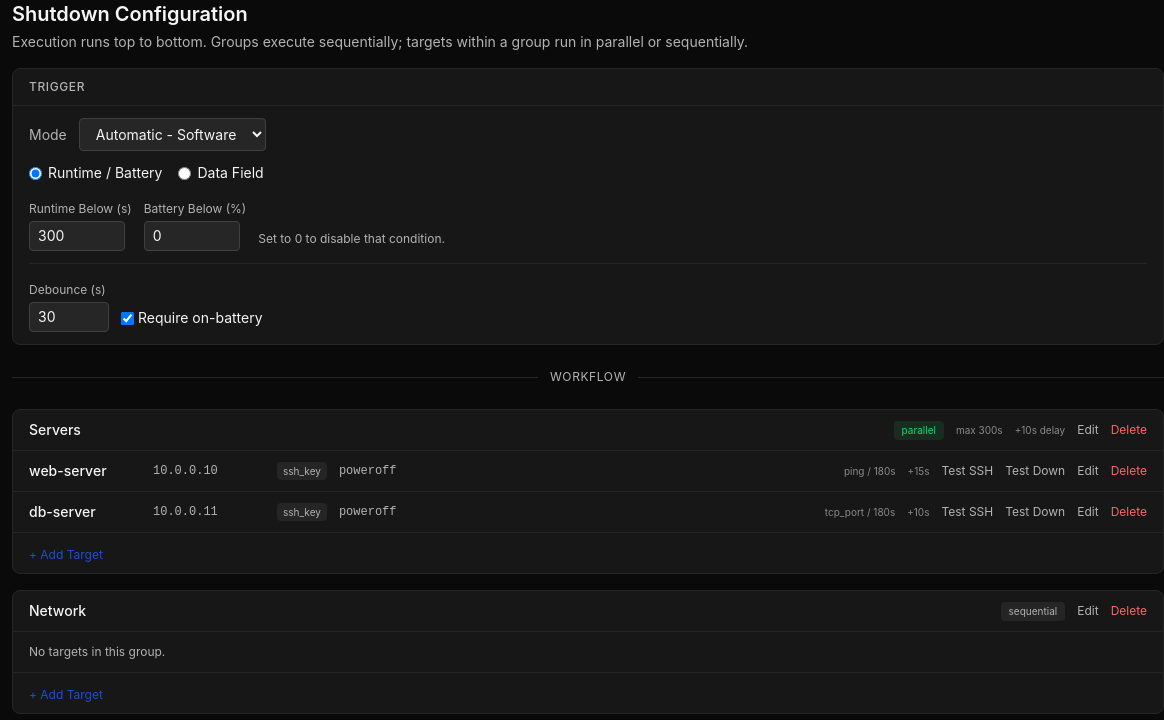
it: ShutdownConfig — Trigger › shows Save Settings button when settings are changed
Select "Manual" in the dropdown showing "Automatic - Software" at [172, 134], box [79,118,266,151]
(page scrolled)
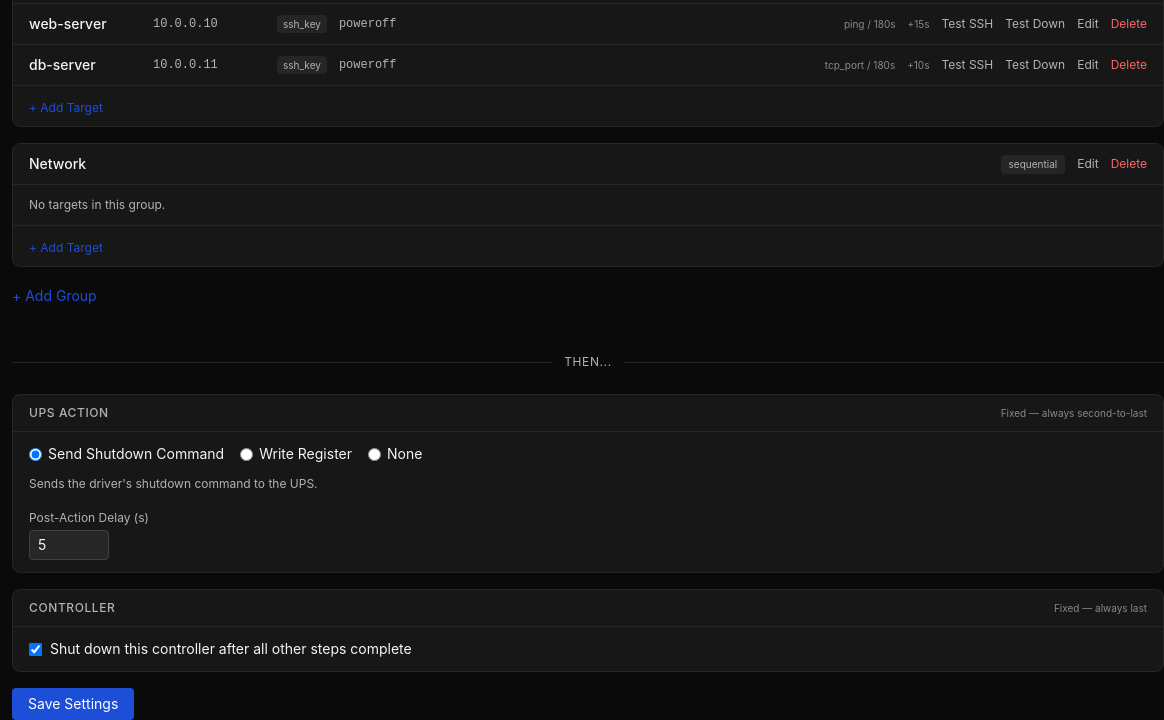
Expected: the button "Save Settings" is shown, [12,688,134,719]
